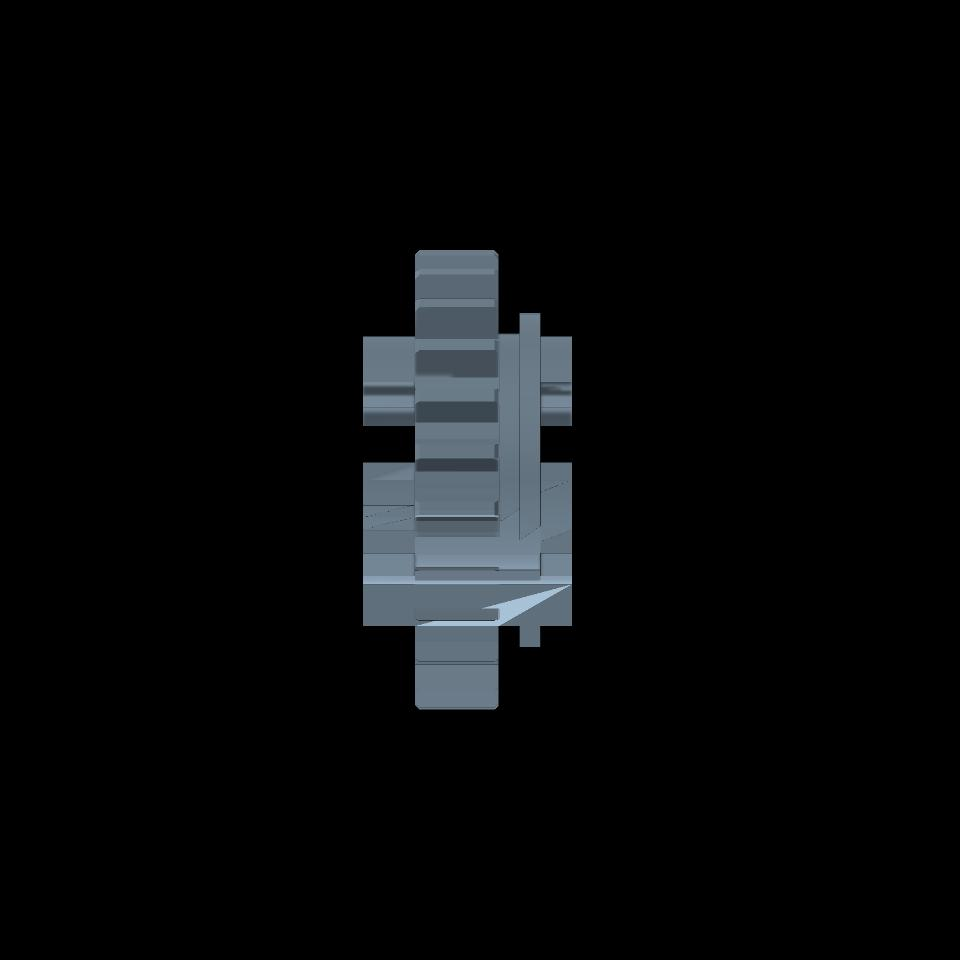Straight: (415, 249, 498, 708)
